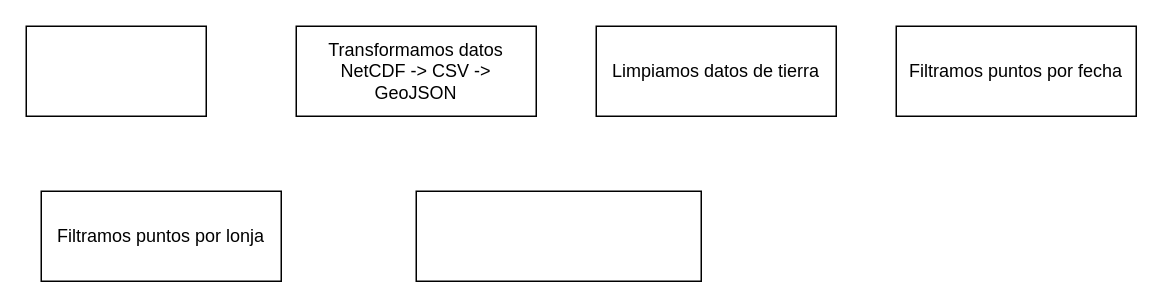
Some shapes in this 1163 by 308 pixel diagram are drawn without their labels. Each missing label, with the box of its shape:
Extraemos API Copernicus Marine: (25, 25, 206, 116)
Metemos puntos cercanos en datos de lonja: (415, 190, 701, 281)
